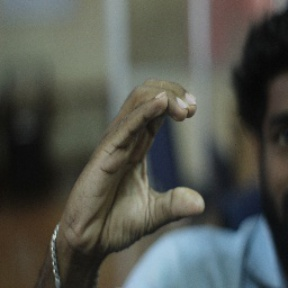C: (96, 75, 212, 224)
